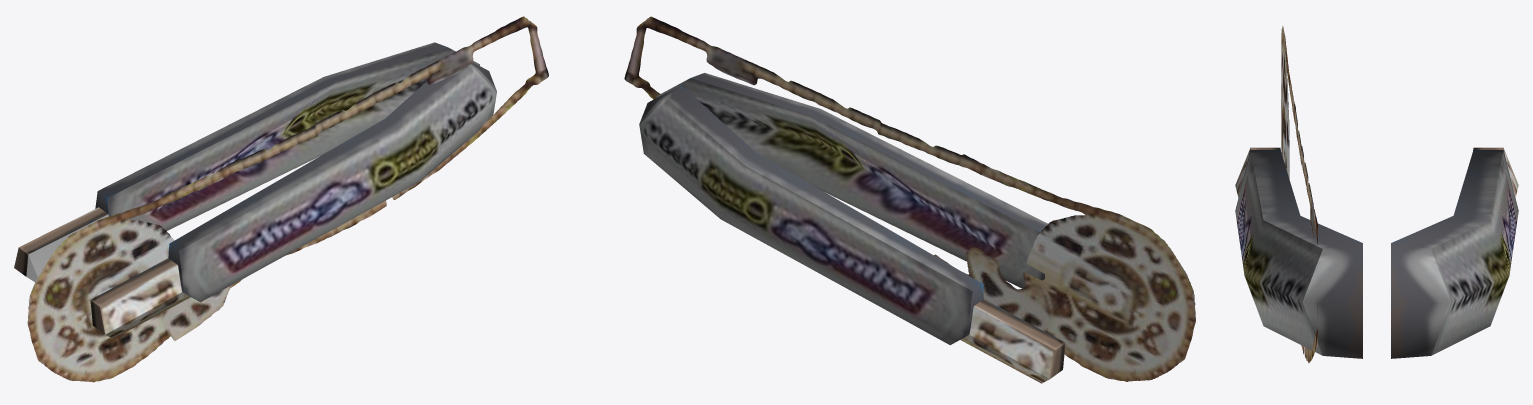
Rendered from Moto_rear_suspension.FBX.
3 views of the same model, side by side, from view 1: azimuth 30°, elevation 25°; view 2: azimuth 150°, elevation 25°; view 3: azimuth 270°, elevation 25° (orthographic). The views are drawn at different scales.
Visible parts, largest first — view 1: suspensie spate; view 2: suspensie spate; view 3: suspensie spate.
Boxes of the visible parts, left/top/right/bottom form: suspensie spate: left=14, top=16, right=548, bottom=382; suspensie spate: left=624, top=16, right=1195, bottom=383; suspensie spate: left=1235, top=26, right=1518, bottom=363.
Size of the model in its own units: 58.71 by 26 by 16.38.
Materials: 1 (1 with a texture image).
